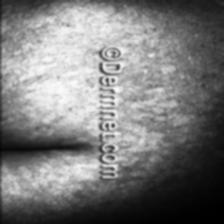Toxin: (130, 122, 178, 154)
